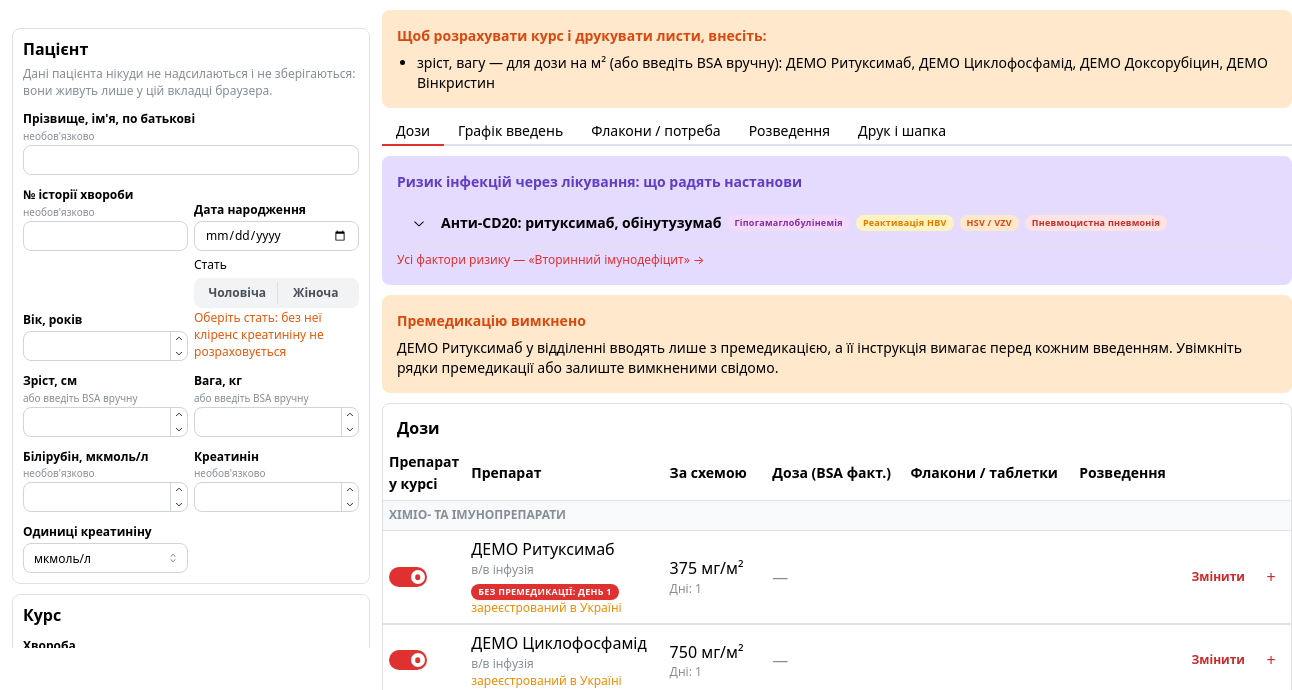
Scenario: CalculatorPage › takes a ready BSA value straight from the list
The width and height of the screenshot is (1292, 690).
In the field labelled "Вік, років": (106, 346) [23,331,188,361], type "60"
In the field labelled "Зріст, см": (106, 422) [23,407,188,437], type "180"
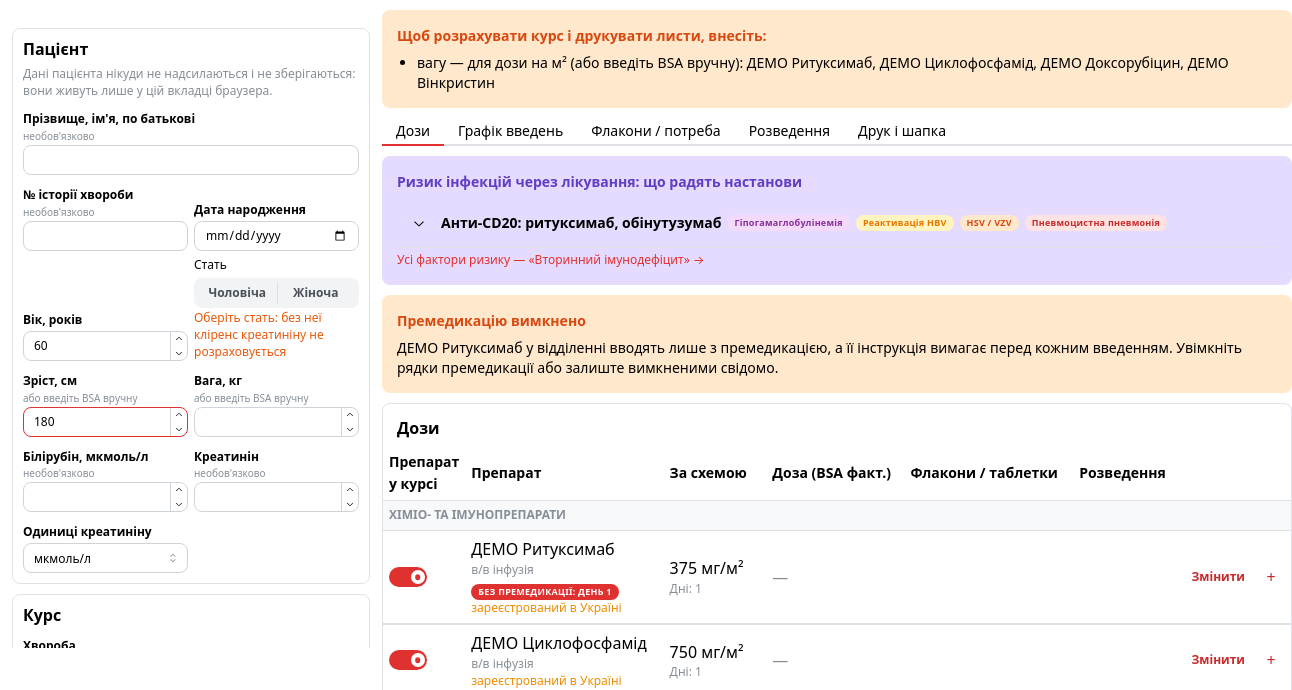
In the field labelled "Вага, кг": (276, 422) [194,407,359,437], type "80"
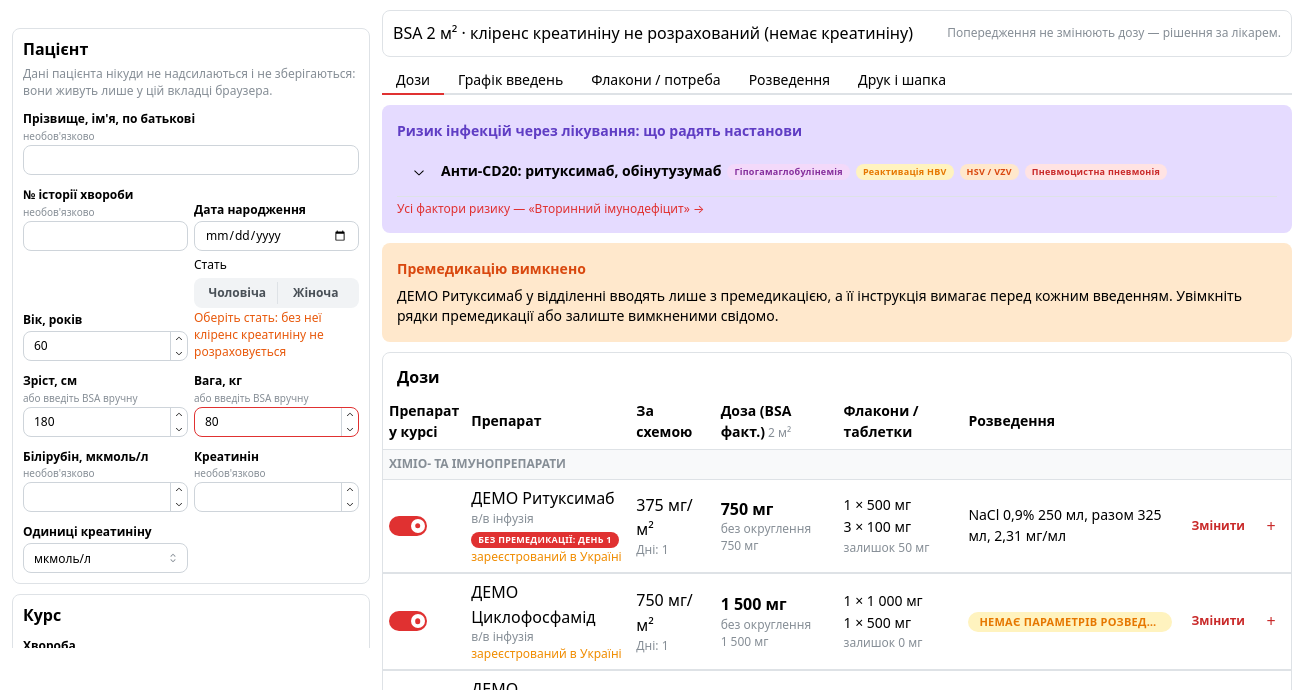
In the field labelled "Креатинін": (276, 497) [194,482,359,512], type "88,4"
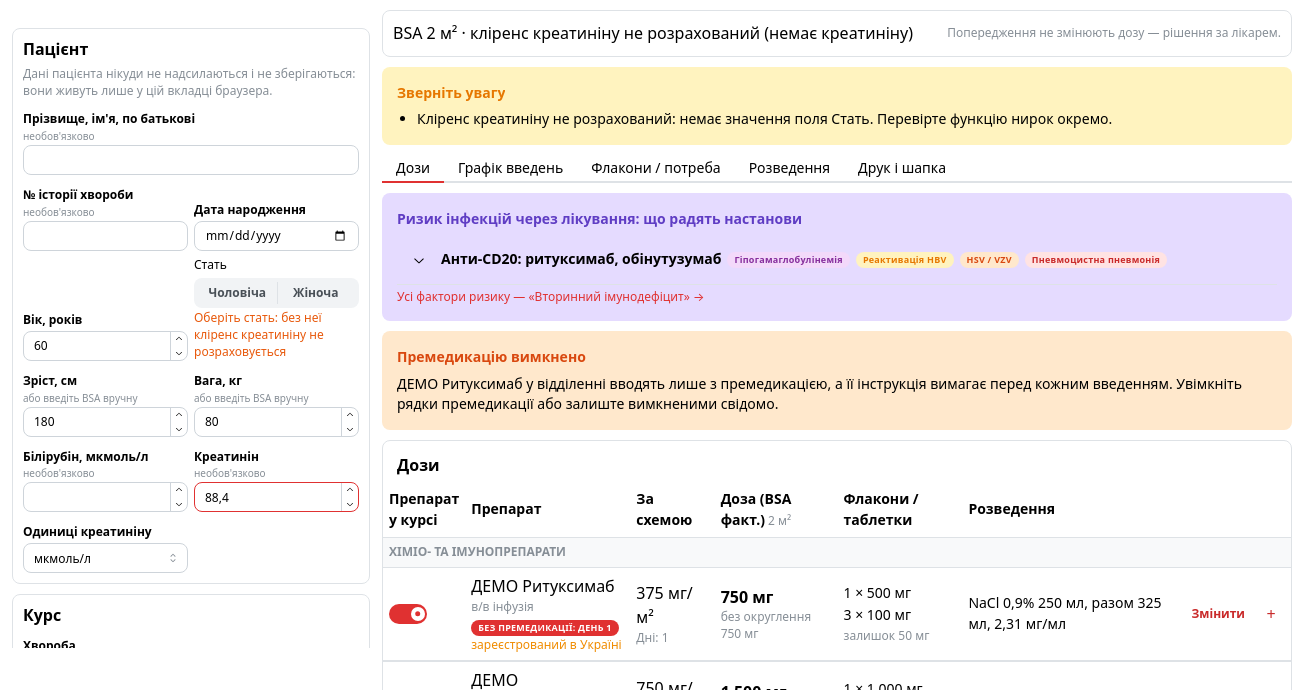
Click the text "Чоловіча": click(237, 292) [208,284,266,301]
(page scrolled)
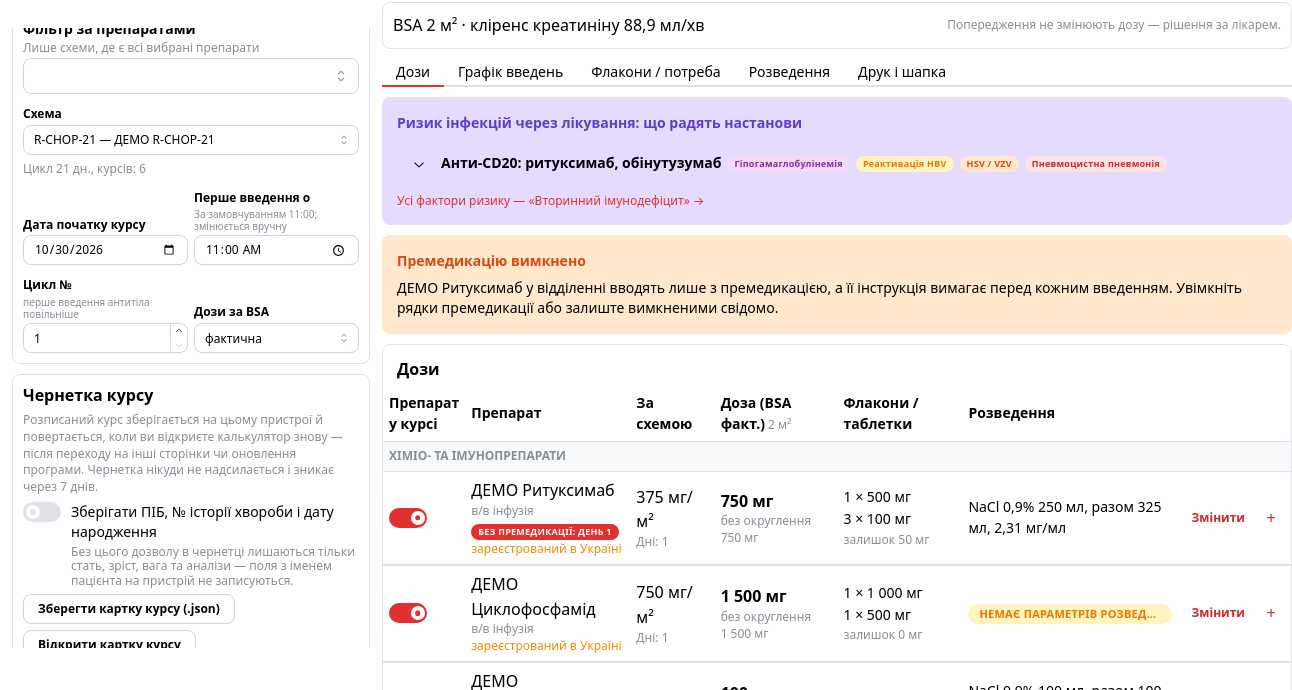
Result: the text "750 мг" is shown at [721,489,773,513]
Click the dropdown labelled "Дози за BSA": click(276, 338) [194,323,359,353]
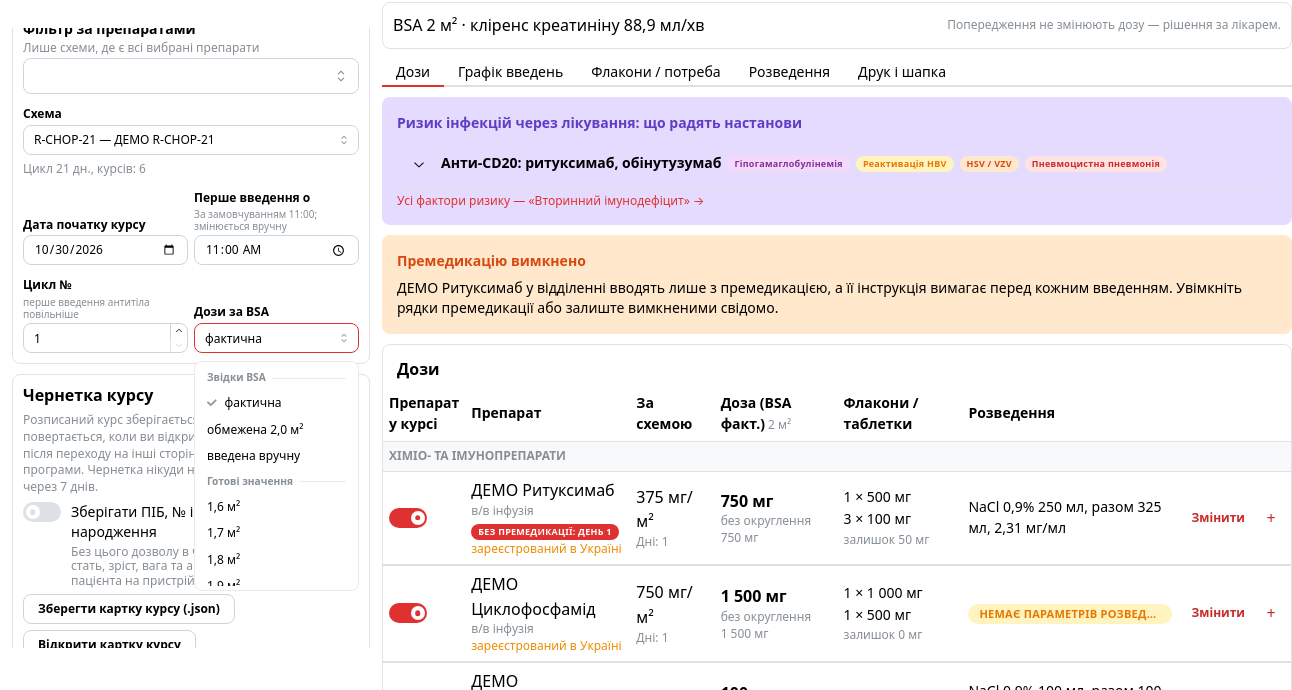
Click the option "1,8 м²": click(224, 559) [207,551,240,568]
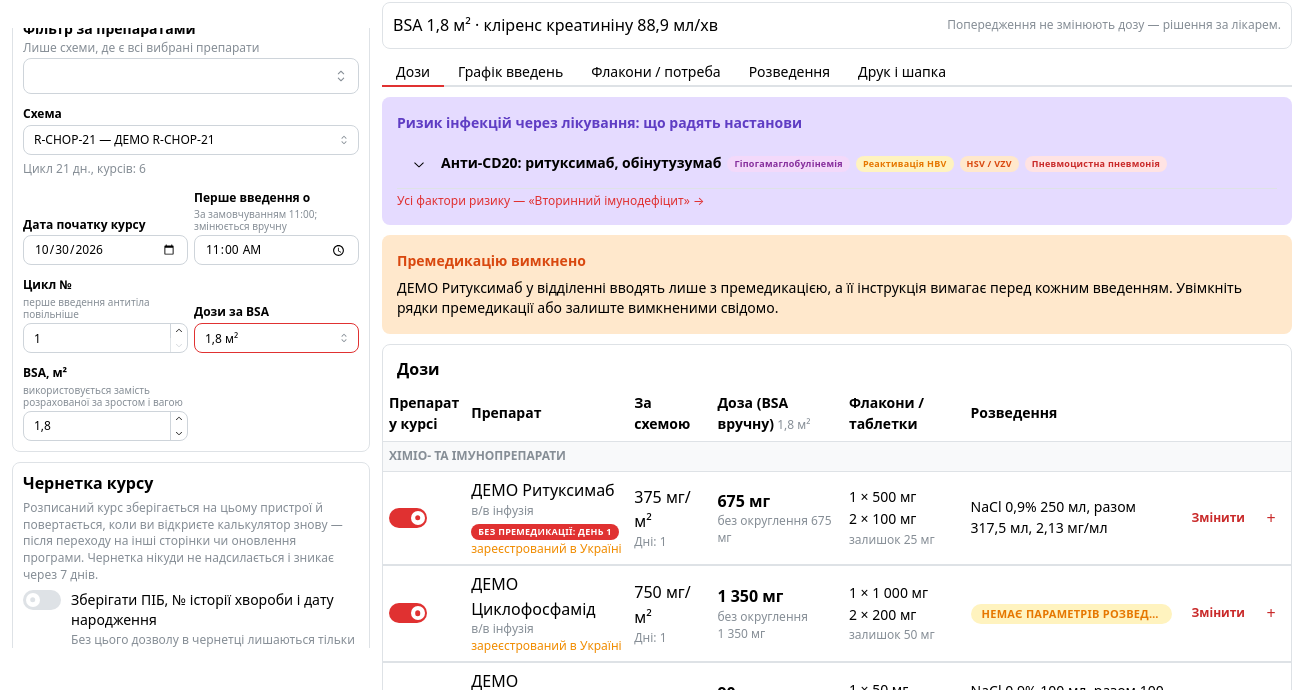
Result: the text "675 мг" is shown at [717,489,770,513]
Result: the field labelled "BSA, м²" holds "1,8" at [23,411,188,441]
